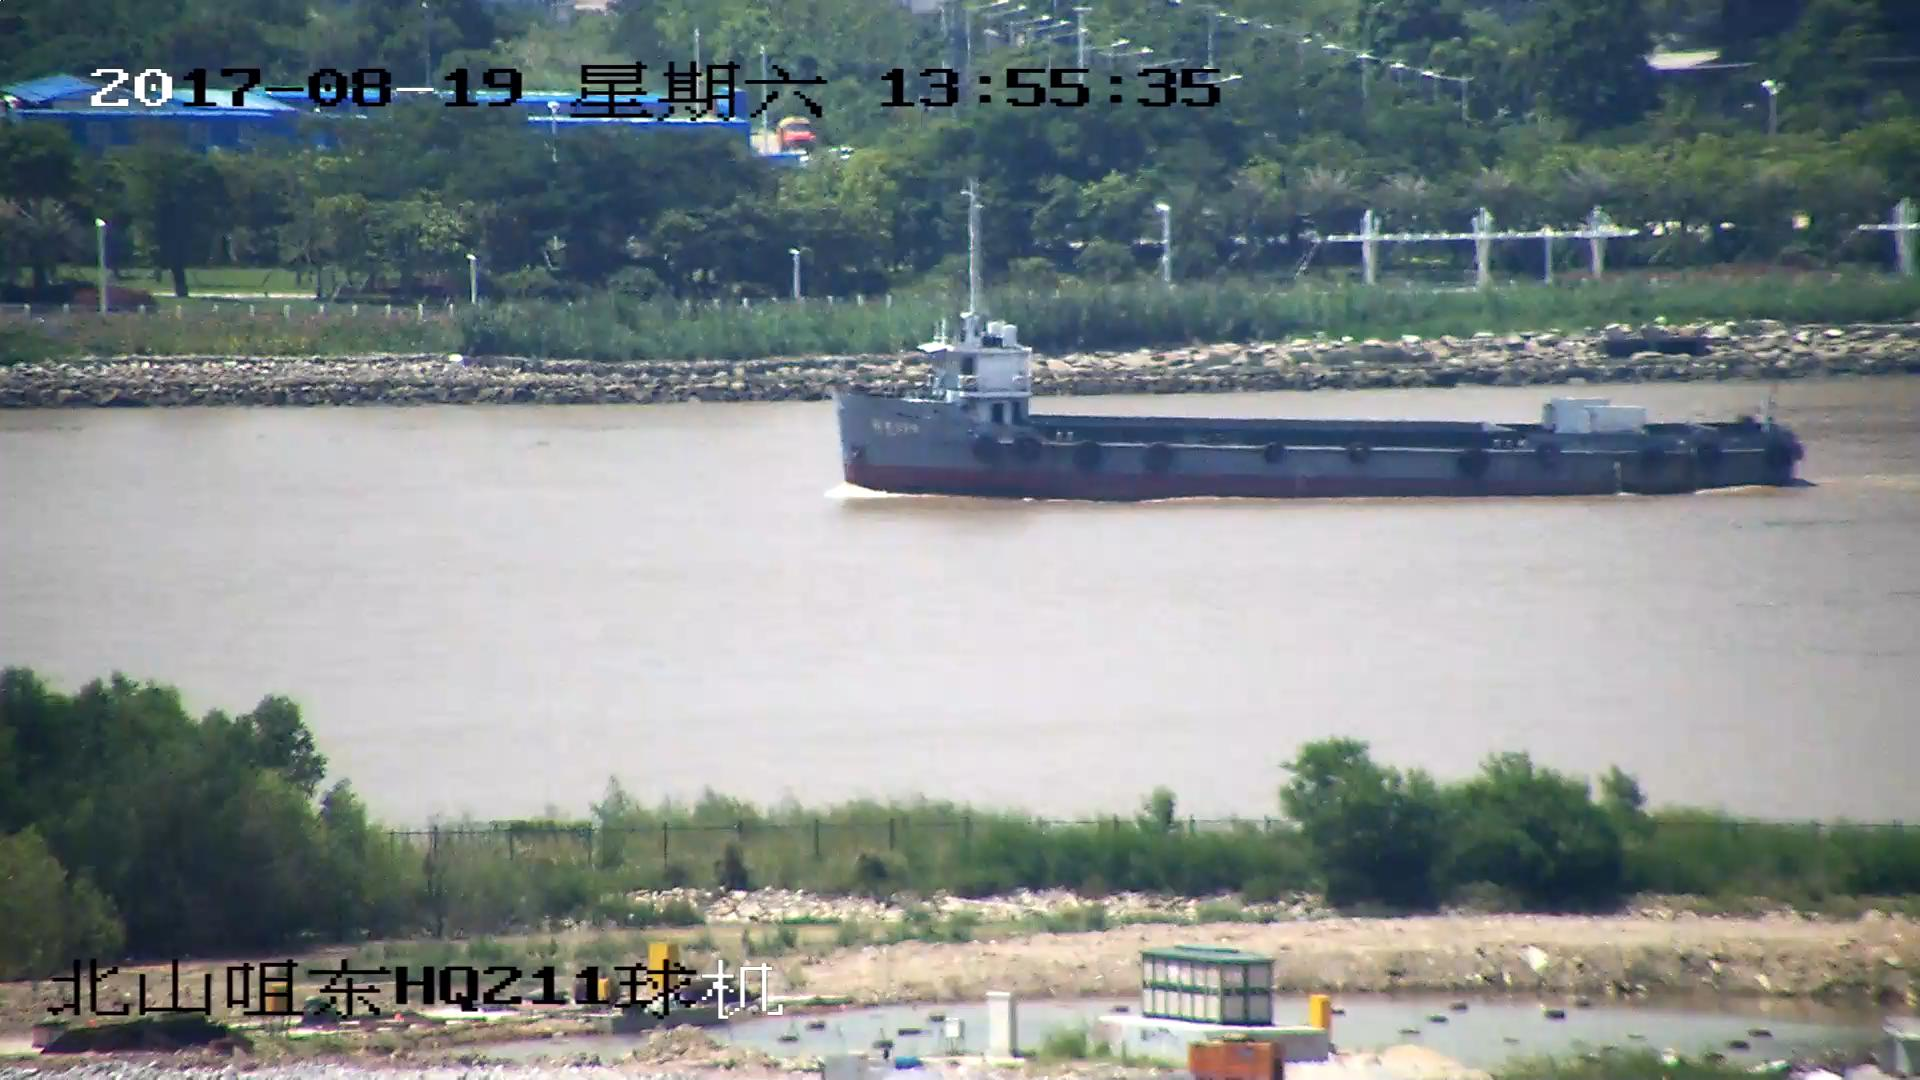general cargo ship: (829, 307, 1804, 502)
